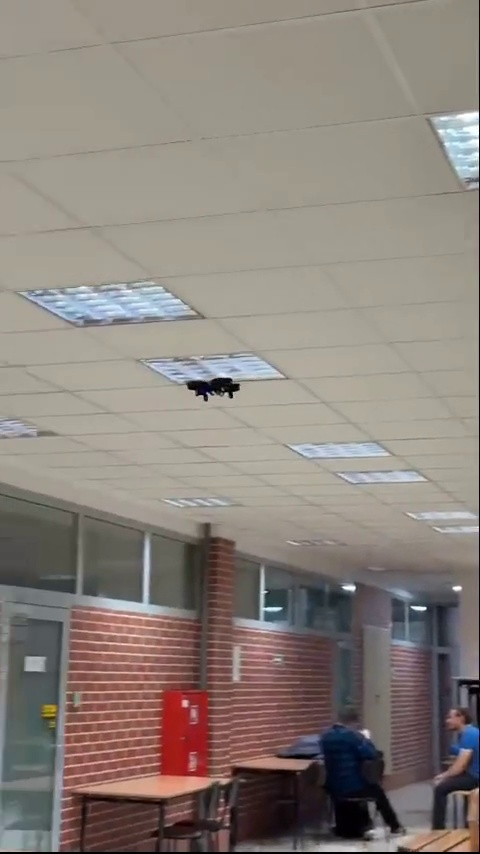drone: (188, 372, 240, 396)
no vest: (321, 703, 392, 799), (423, 705, 479, 803)
